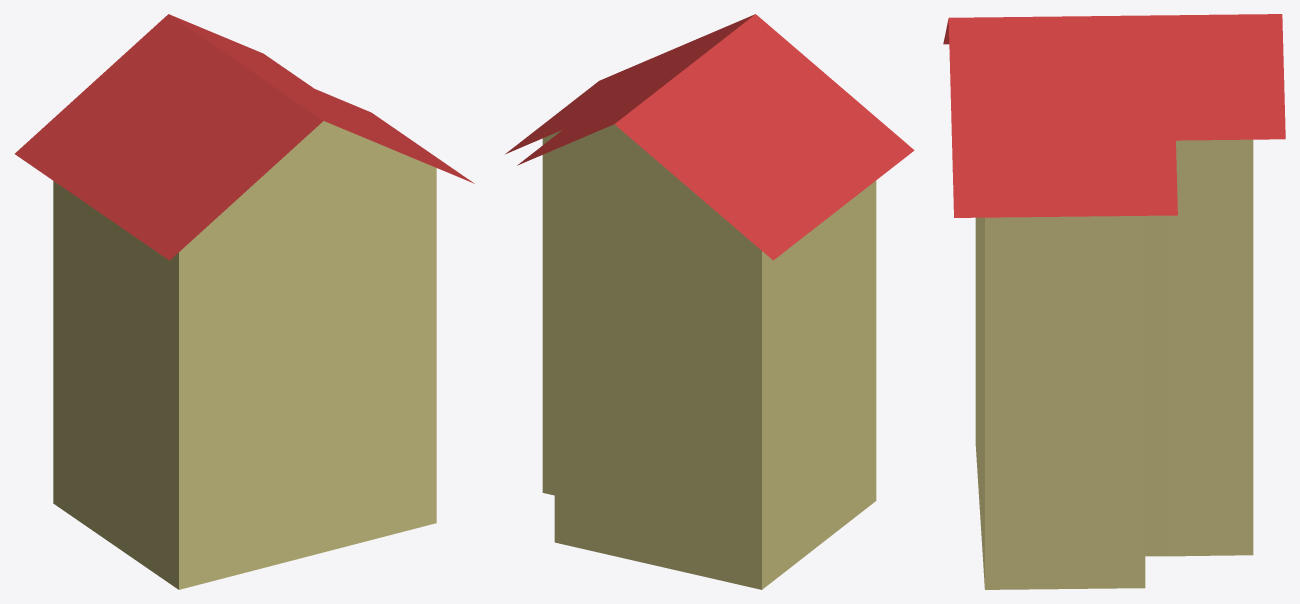
The picture shows the model from 3 angles, left to right: view 1: azimuth 30°, elevation 25°; view 2: azimuth 150°, elevation 25°; view 3: azimuth 270°, elevation 25°; orthographic projection. The views are drawn at different scales.
Parts seen in each view (by area): view 1: group_5, group_3, group_4; view 2: group_5, group_3, group_4; view 3: group_5, group_3, group_4.
Boxes of the visible parts, left/top/right/bottom form: group_5: left=53, top=121, right=436, bottom=589; group_3: left=53, top=14, right=474, bottom=258; group_4: left=15, top=14, right=390, bottom=260; group_5: left=542, top=124, right=876, bottom=589; group_3: left=506, top=14, right=876, bottom=249; group_4: left=506, top=15, right=914, bottom=260; group_5: left=975, top=139, right=1253, bottom=589; group_3: left=943, top=14, right=1285, bottom=217; group_4: left=949, top=17, right=1178, bottom=215.
Bounding box in the file's own units: 9.76 × 8.1 × 13.08.
